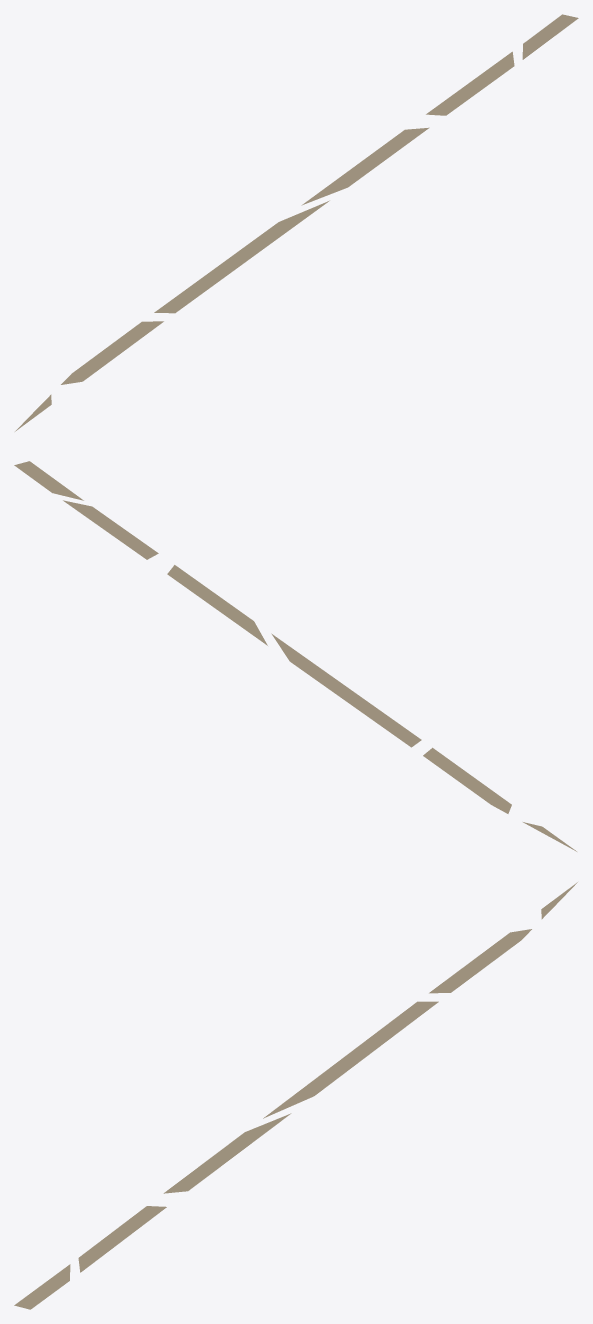
The model's file is farm_6_5_track.glb.
3 views of the same model, one above another, from view 1: azimuth 90°, elevation 25°; view 2: azimuth 150°, elevation 25°; view 3: azimuth 270°, elevation 25° (orthographic). The views are drawn at different scales.
Parts seen in each view (by area): view 1: geometry_0; view 2: geometry_0; view 3: geometry_0.
Boxes of the visible parts, x1,y1,x2,y2 form: geometry_0: (15,14,578,431); geometry_0: (14,461,576,851); geometry_0: (14,882,577,1309).
Bounding box in the file's own units: 172 × 1.03 × 96.97.
